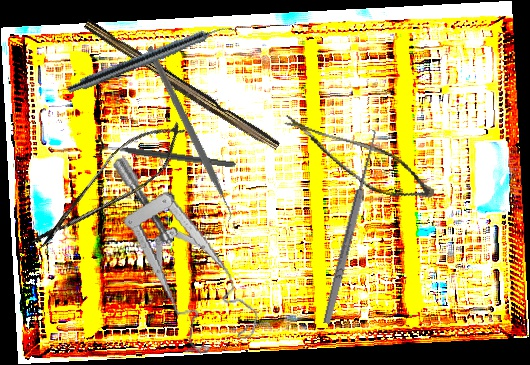Chopper: (88, 45, 286, 230)
Fixation Ring: (92, 137, 237, 176)
Handpiece: (64, 16, 239, 100)
Hook Surgical: (313, 127, 382, 325)
Micro Scissor: (21, 106, 198, 266), (269, 113, 444, 208)
Scalpel Handle: (79, 18, 283, 155)
Speculum: (112, 140, 262, 363)
